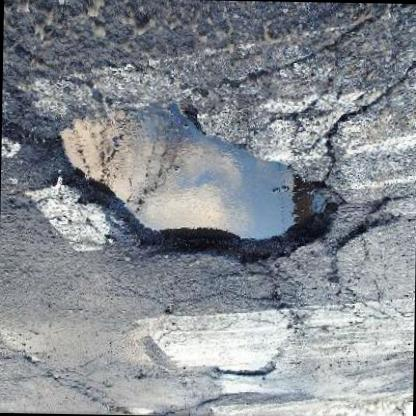pothole: (51, 97, 343, 270), (214, 362, 278, 382)
